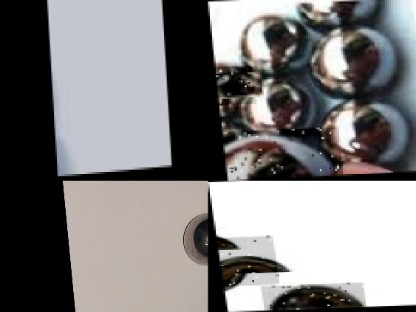ironball: (297, 29, 409, 95), (316, 94, 410, 171), (219, 125, 339, 180), (224, 12, 308, 67), (237, 75, 313, 130), (214, 235, 276, 285), (257, 282, 362, 311), (296, 0, 400, 28), (181, 208, 210, 264), (213, 63, 253, 103)
